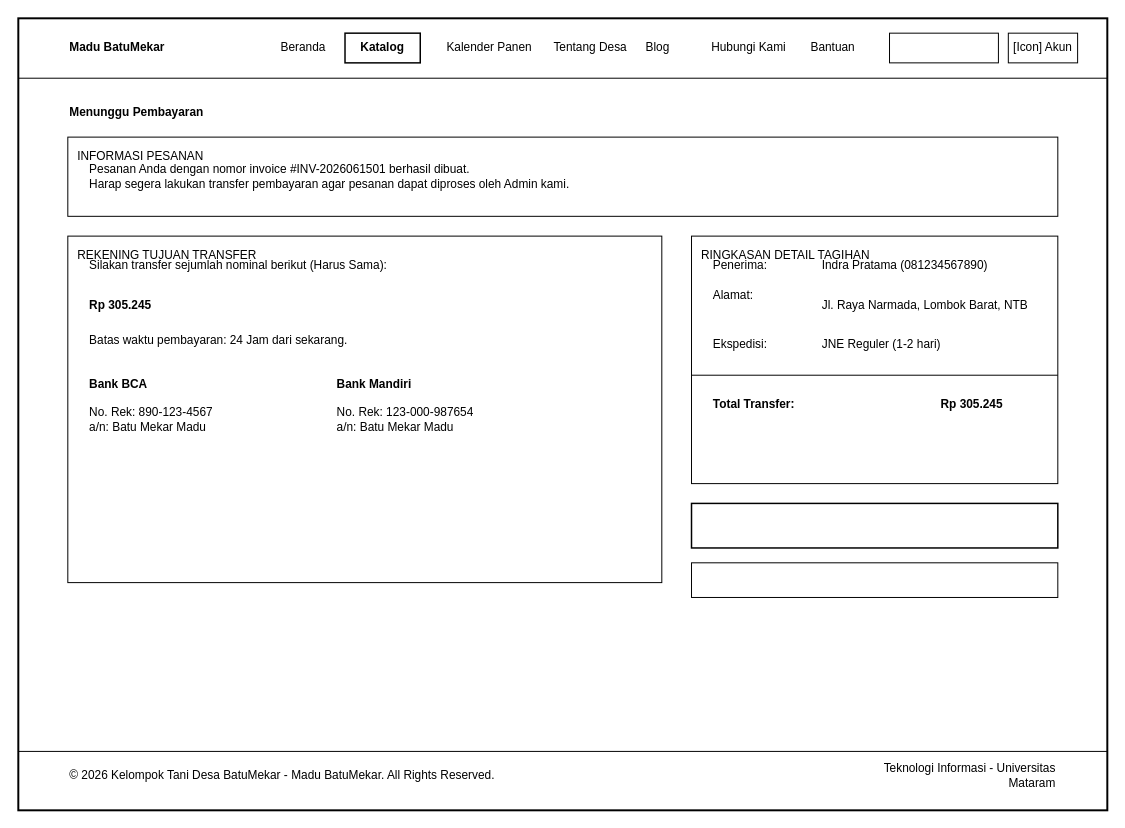
Some shapes in this 1125 by 828 pixel diagram are drawn without their labels. Here are the shapes that lost their labels. From the top down, the centre of each, then its label:
At point 943,47: "[Icon] Keranjang (2)".
At point 874,525: "Unggah Bukti Transfer Sekarang".
At point 874,579: "<- Kembali ke Dashboard Saya".
